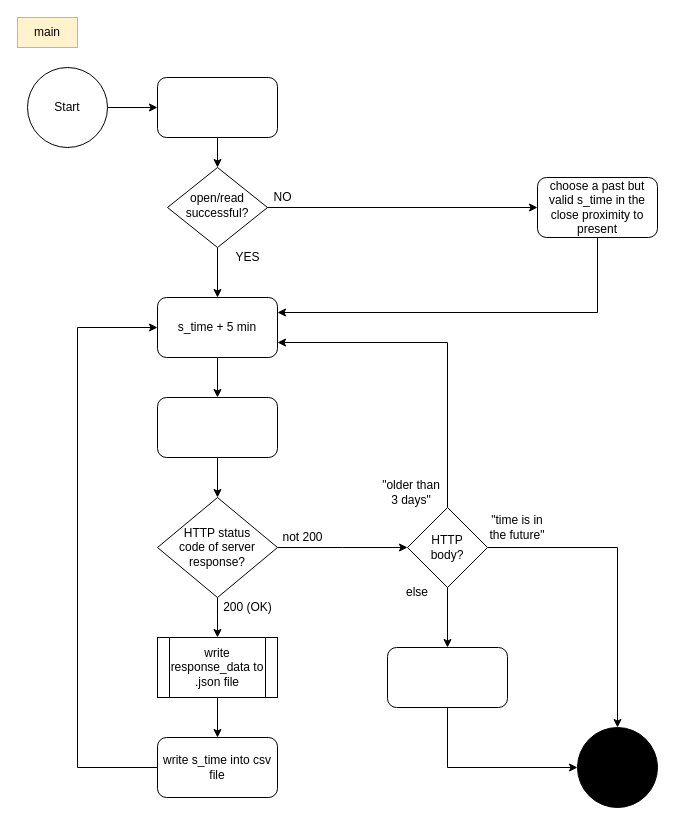
The diagram is 675 pixels wide and 825 high, and some of its shapes have lost their labels. The centre of each missing label's shape, as x and y in pixels:
"end" goes at (617,767).
"open and read s_time from file" goes at (217,107).
"print / log what went wrong" goes at (447,677).
"send request to server" goes at (217,427).
